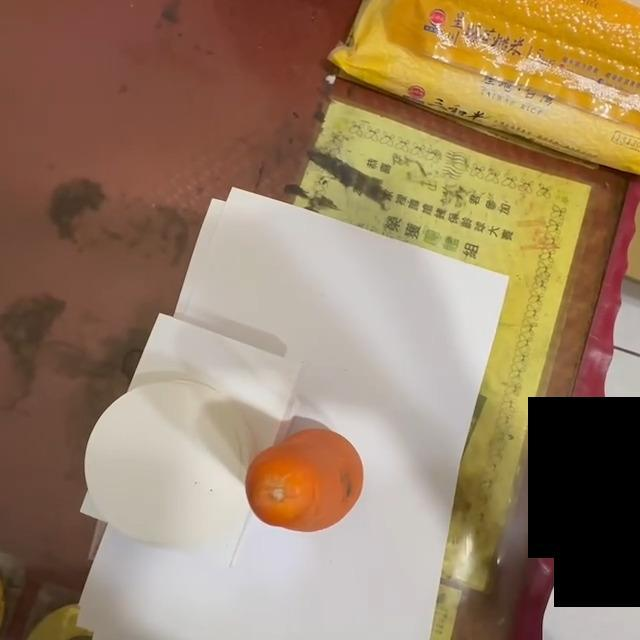carrot: (249, 426, 366, 539)
